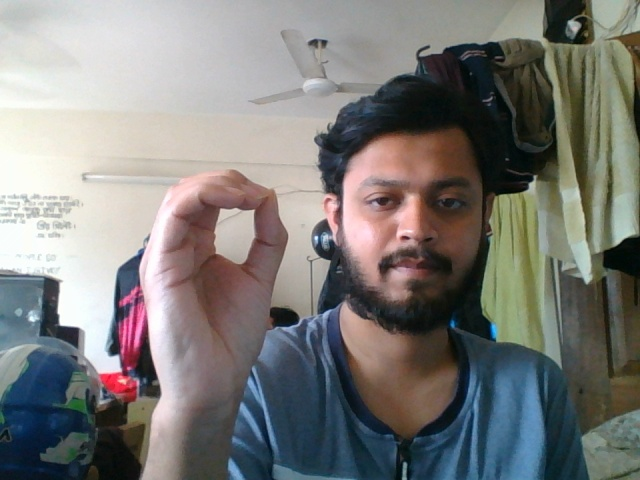oo: (135, 162, 296, 436)
